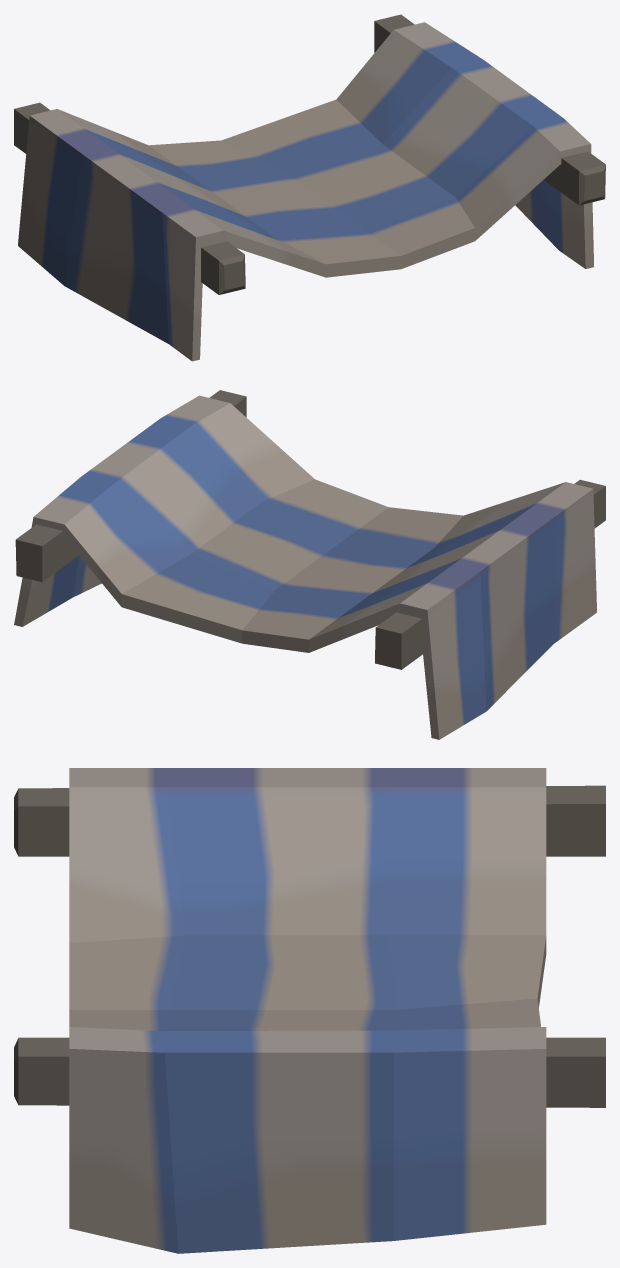
Rendered from SM_Bld_Village_ClothCover_Small_01.glb.
The picture shows the model from 3 angles, top to bottom: view 1: azimuth 30°, elevation 25°; view 2: azimuth 150°, elevation 25°; view 3: azimuth 270°, elevation 25°; orthographic projection. The views are drawn at different scales.
Visible parts, largest first — view 1: SM_Bld_Village_ClothCover_Small_01; view 2: SM_Bld_Village_ClothCover_Small_01; view 3: SM_Bld_Village_ClothCover_Small_01.
Part boxes in pixels (box(x1,y1,x2,y2)): SM_Bld_Village_ClothCover_Small_01: box(14, 14, 605, 361); SM_Bld_Village_ClothCover_Small_01: box(14, 390, 605, 739); SM_Bld_Village_ClothCover_Small_01: box(14, 768, 605, 1253).
Bounding box in the file's own units: 2.43 × 0.7522 × 2.03.
1 material, 1 textured.
